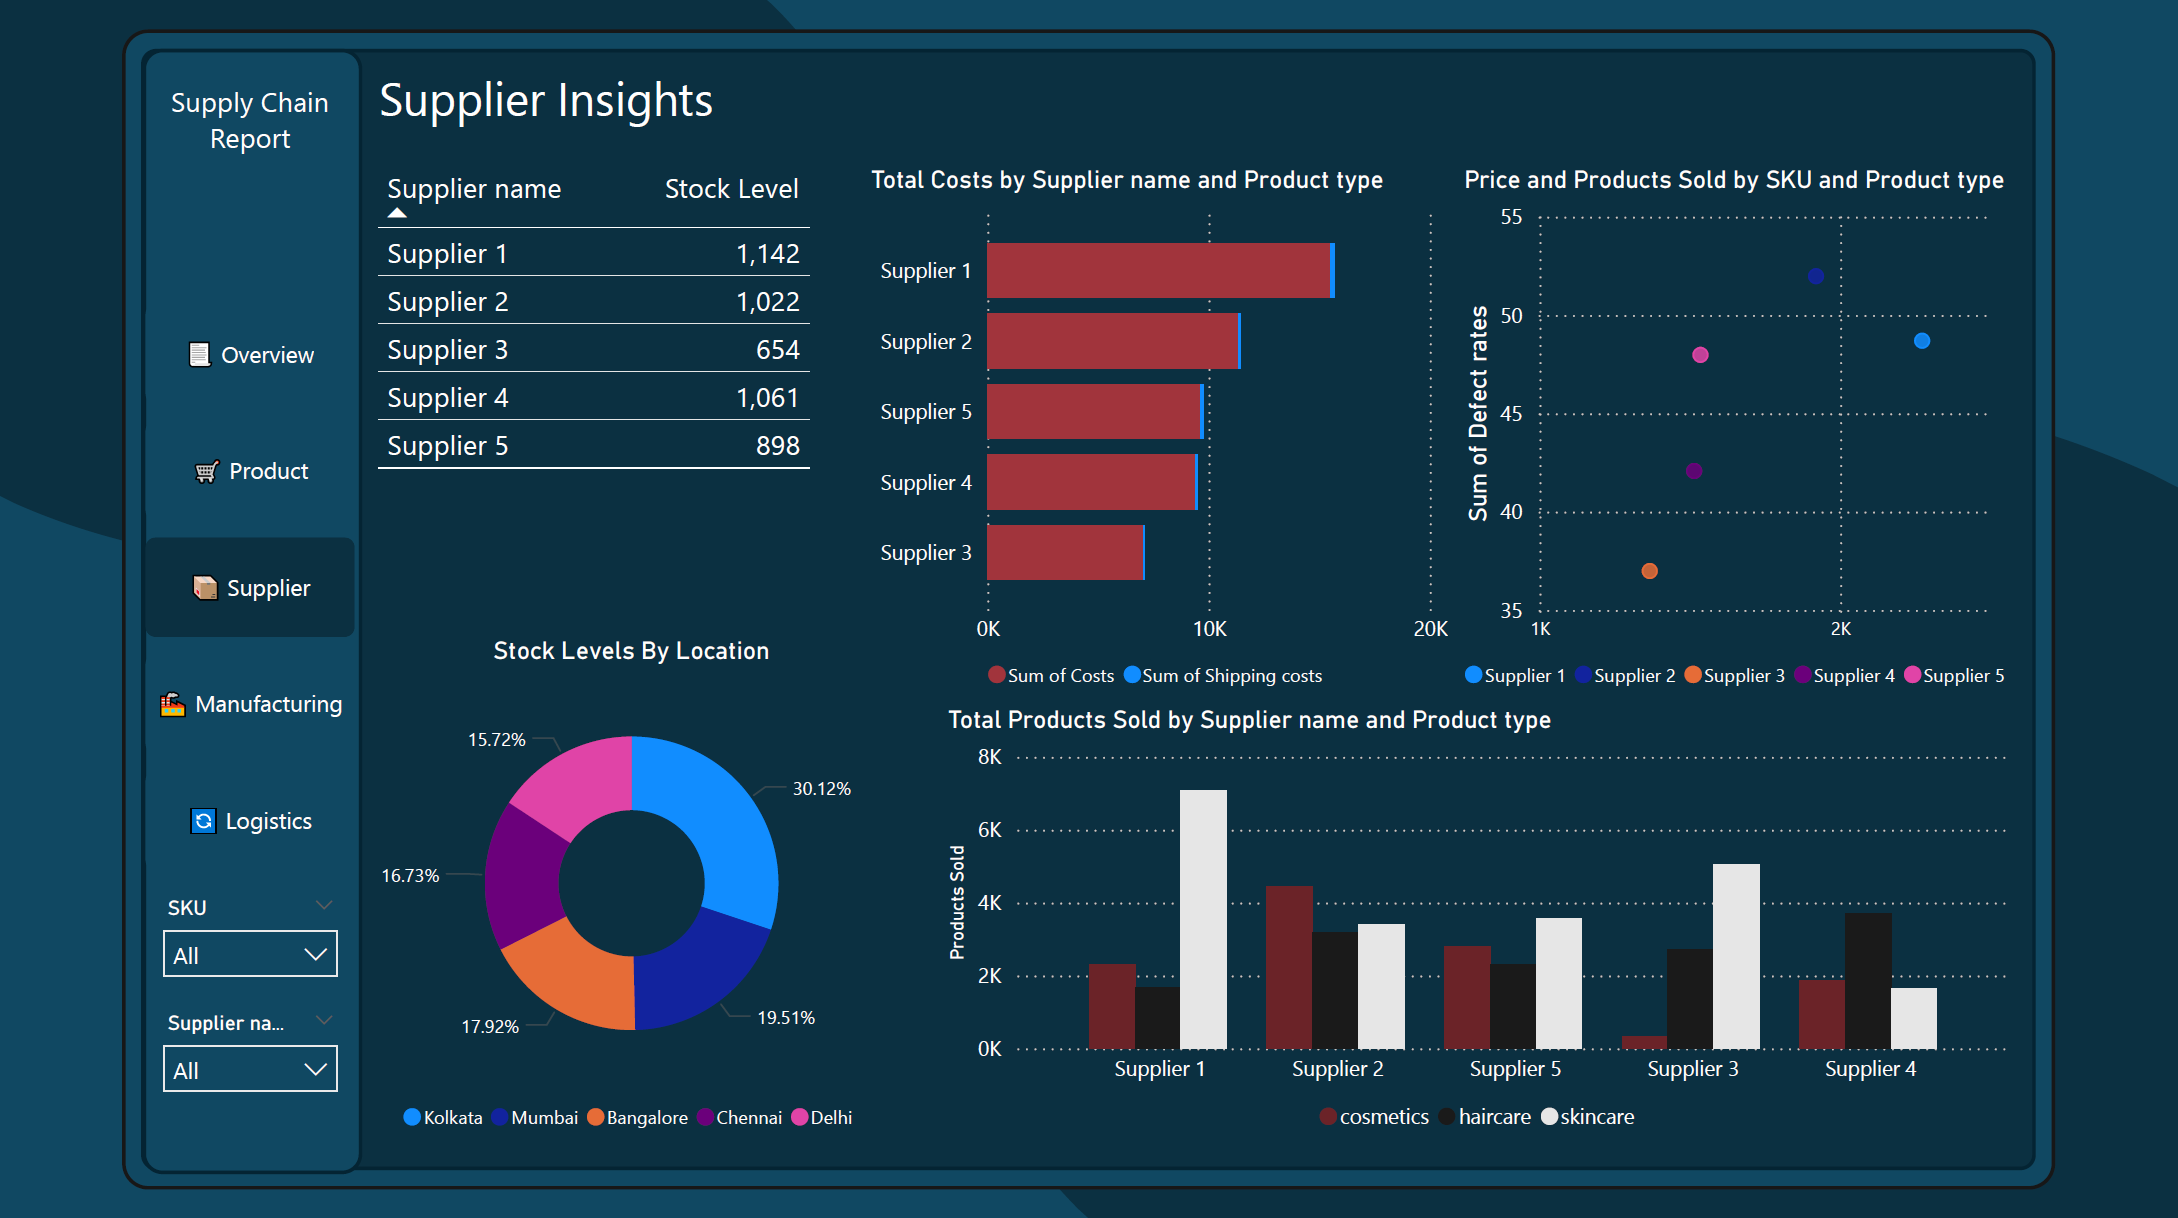

The page's visual inventory and layout, read from the dashboard file:
{"tool":"powerbi","page":{"name":"📦  Supplier","canvas":[1280,720],"ordinal":2},"visuals":[{"type":"pageNavigator","box":[90.3,181.2,122,330.7],"z":0,"group":"g1"},{"type":"textbox","box":[90.3,47.6,122,62.8],"z":1000,"group":"g1"},{"type":"donutChart","title":"Stock Levels By Location","fields":{"Category":["supply_chain_data.Location"],"Y":["Measures (2).Total Stock Level"]},"box":[219.7,376.5,307.5,297.8],"z":1000},{"type":"clusteredColumnChart","title":"Total Products Sold by Supplier name and Product type","fields":{"Category":["supply_chain_data.Supplier name"],"Series":["supply_chain_data.Product type"],"Y":["Measures (2).Total Products Sold"]},"box":[553.4,416.1,630.3,258.1],"z":2000},{"type":"slicer","fields":{"Values":["supply_chain_data.SKU"]},"box":[90.3,521.7,122,60.4],"z":2000,"group":"g1"},{"type":"textbox","box":[220.9,38.4,967.1,62.8],"z":3000},{"type":"slicer","fields":{"Values":["supply_chain_data.Supplier name"]},"box":[90.3,588.2,122,60.4],"z":3000,"group":"g1"},{"type":"group","id":"g1","title":"Group 1","box":[90.3,47.6,122,601],"z":4000},{"type":"barChart","title":"Total Costs by Supplier name and Product type","fields":{"Category":["supply_chain_data.Supplier name"],"Y":["Sum(supply_chain_data.Costs)","Sum(supply_chain_data.Shipping costs)"]},"box":[508.3,101.3,345.4,314.8],"z":5000},{"type":"scatterChart","title":"Price and Products Sold by SKU and Product type","fields":{"X":["Sum(supply_chain_data.Profit margin)"],"Series":["supply_chain_data.Supplier name"],"Y":["Sum(supply_chain_data.Defect rates)"]},"box":[853.6,101.3,330.1,314.8],"z":6000},{"type":"tableEx","fields":{"Values":["supply_chain_data.Supplier name","Measures (2).Total Stock Level"]},"box":[219.7,94.6,264.8,259.9],"z":7000}]}

Visuals, with their boxes in screenshot pixels (x1, y1, x2, y2), scaled from the page's 1280x720 canvas onto the 2178x1218 screenshot:
pageNavigator: Rect(154, 307, 361, 866)
textbox: Rect(154, 81, 361, 187)
"Stock Levels By Location" donutChart: Rect(374, 637, 897, 1141)
"Total Products Sold by Supplier name and Product type" clusteredColumnChart: Rect(942, 704, 2014, 1141)
slicer - supply_chain_data.SKU: Rect(154, 883, 361, 985)
textbox: Rect(376, 65, 2021, 171)
slicer - supply_chain_data.Supplier name: Rect(154, 995, 361, 1097)
"Group 1" group: Rect(154, 81, 361, 1097)
"Total Costs by Supplier name and Product type" barChart: Rect(865, 171, 1453, 704)
"Price and Products Sold by SKU and Product type" scatterChart: Rect(1452, 171, 2014, 704)
tableEx - supply_chain_data.Supplier name x Measures (2).Total Stock Level: Rect(374, 160, 824, 600)
